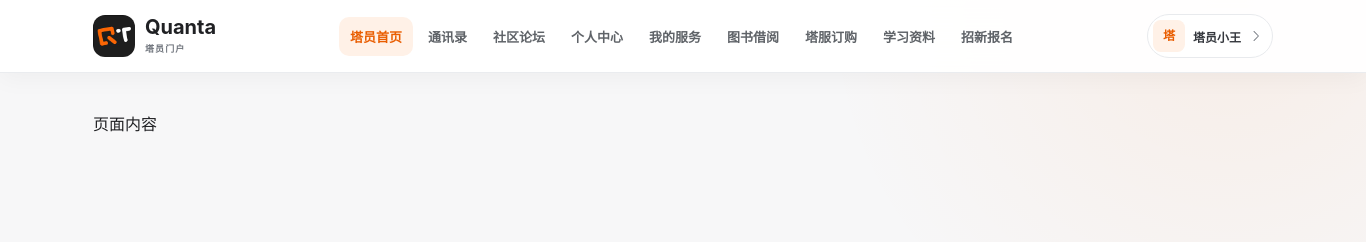
it: PortalLayout › provides an accessible account menu
This screenshot has width=1366, height=242.
Click the button "塔 塔员小王" at (1210, 36), box [1147,14,1273,58]
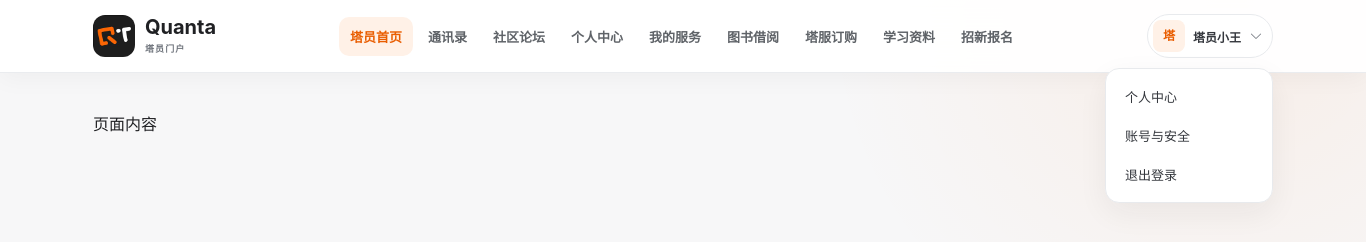
Result: the menu shows "账号与安全" at [1114,116,1264,155]
Result: the menu shows "退出登录" at [1114,155,1264,194]
